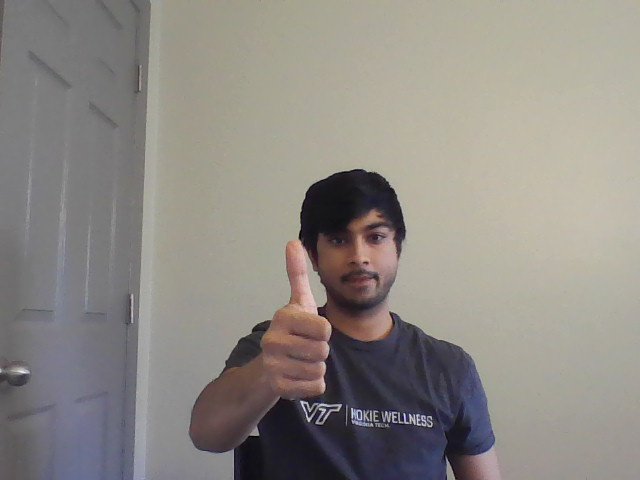confirm: (256, 235, 338, 404)
